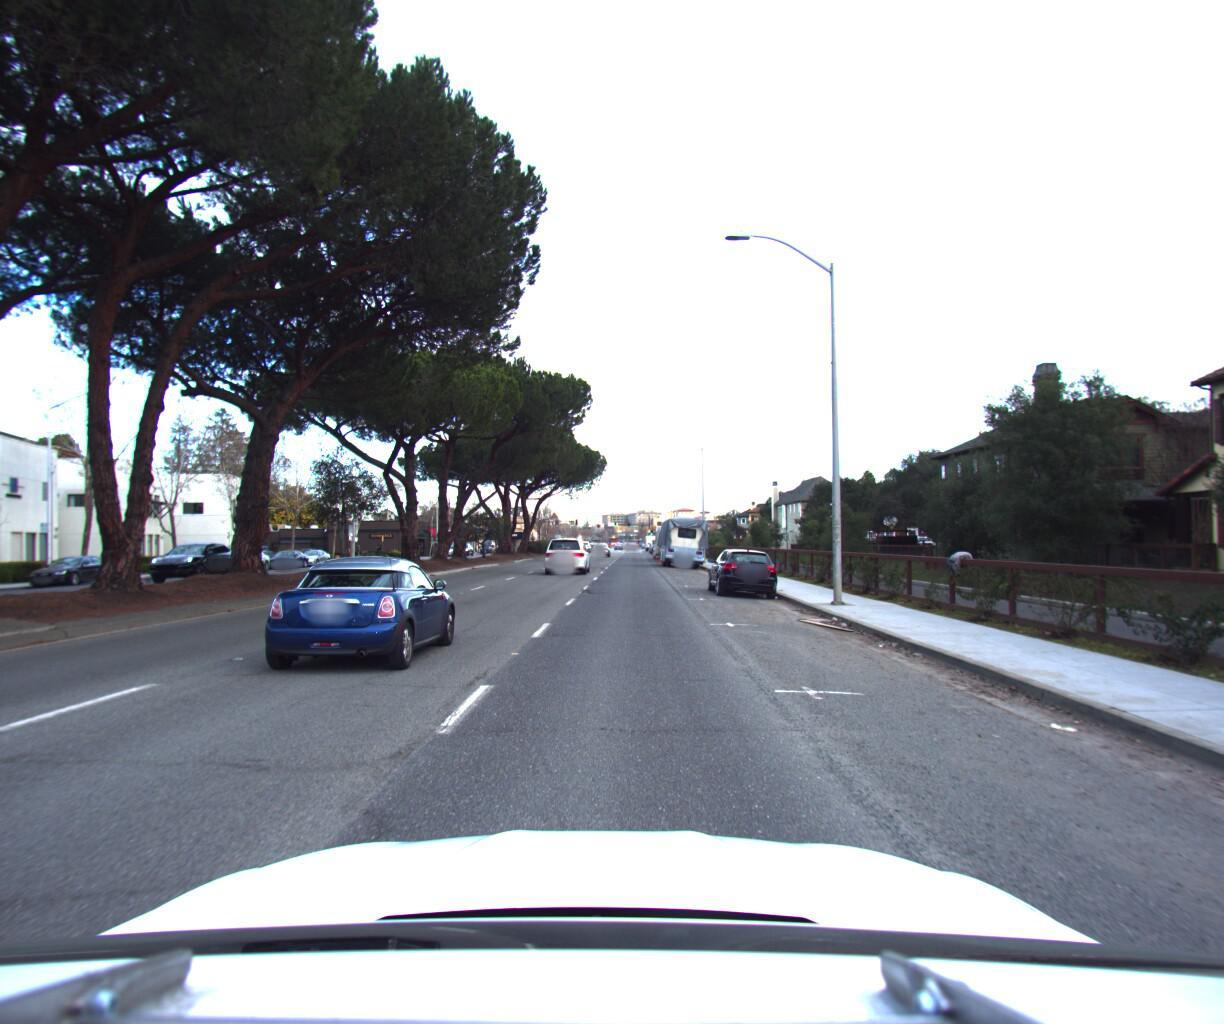car: (254, 543, 467, 669), (140, 532, 244, 574), (700, 537, 779, 592), (27, 545, 125, 582), (541, 527, 591, 566), (263, 540, 313, 562), (294, 540, 334, 559), (587, 530, 610, 547)
other_vehicle: (652, 514, 691, 552)
truck: (656, 503, 707, 560)
